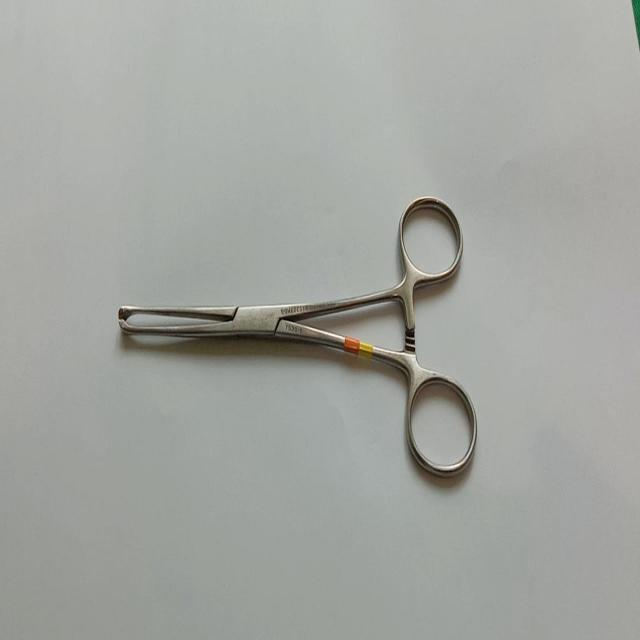AllisForcep: (117, 194, 481, 480)
